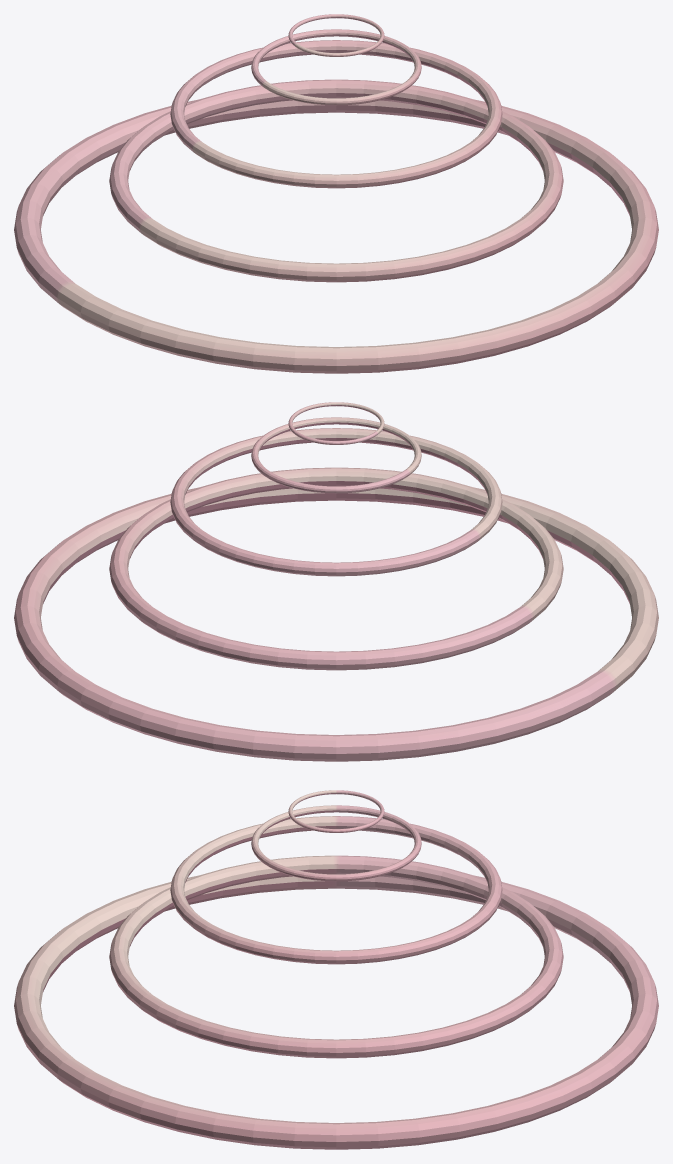
Rendered from toruses.obj.
3 renders of one model, top to bottom at view 1: azimuth 30°, elevation 25°; view 2: azimuth 150°, elevation 25°; view 3: azimuth 270°, elevation 25°, orthographic.
Visible parts, largest first — view 1: Torus.006; view 2: Torus.006; view 3: Torus.006.
Part boxes in pixels (left/top/right/bottom): Torus.006: left=14, top=14, right=658, bottom=373; Torus.006: left=14, top=402, right=658, bottom=761; Torus.006: left=14, top=790, right=658, bottom=1149.
Size of the model in its own units: 1716 by 611 by 1716.
Materials: 1 (1 with a texture image).
